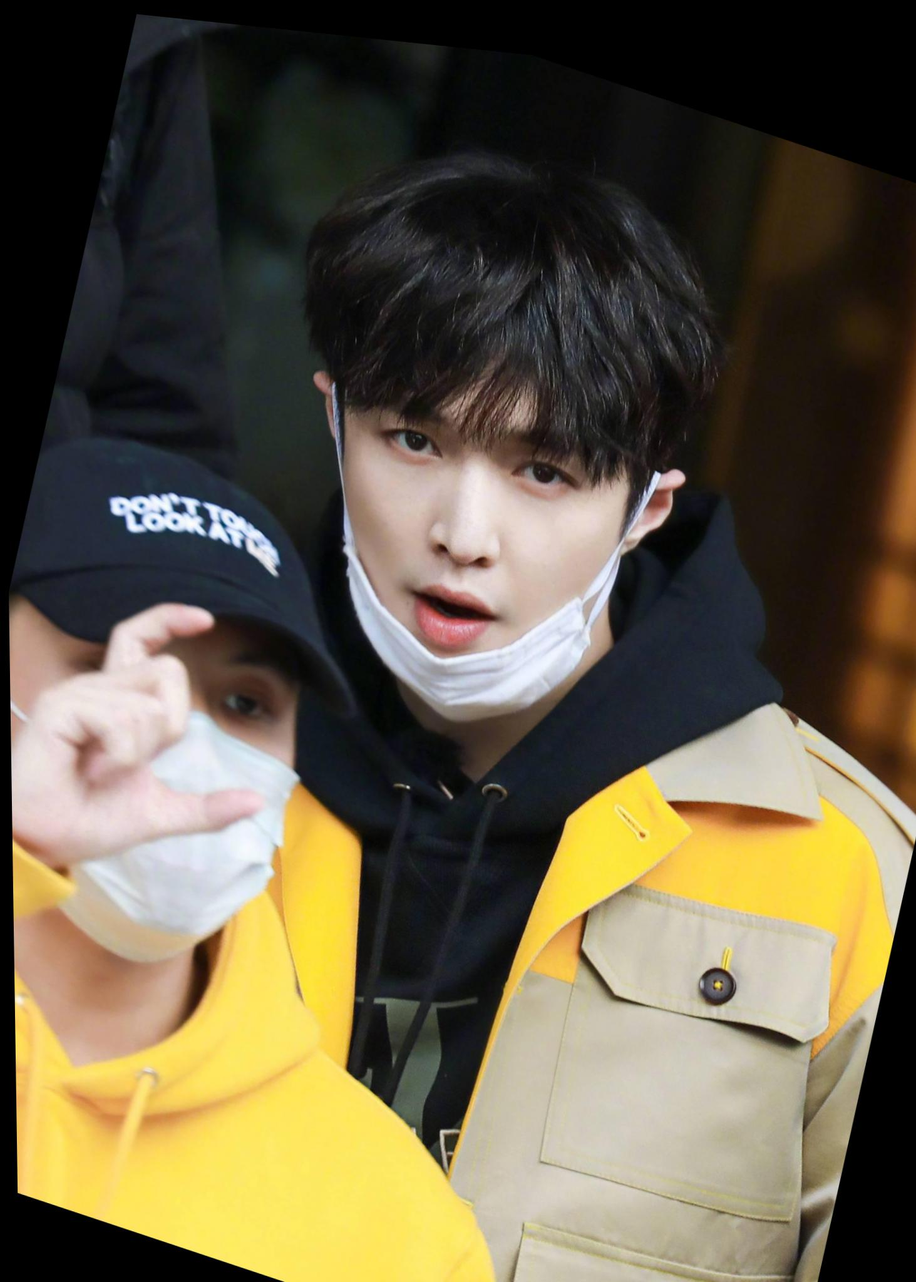OK: (7, 548, 323, 996)
WRONG: (282, 318, 646, 738)
